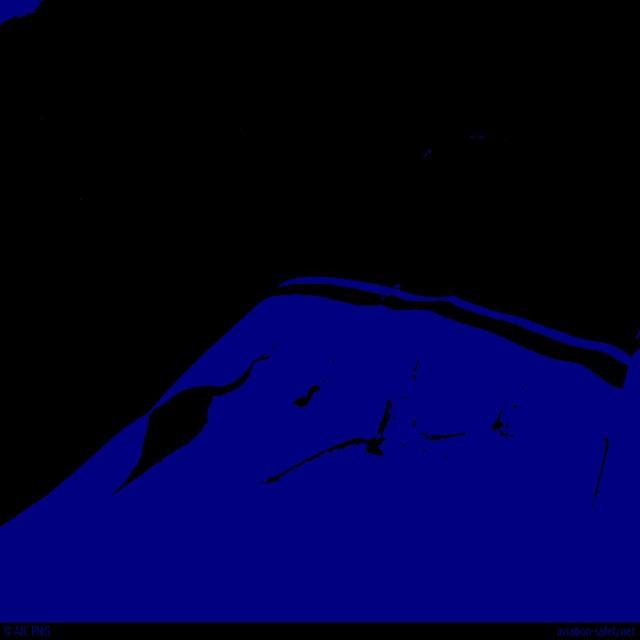crack: (279, 434, 351, 484), (412, 426, 466, 457), (377, 400, 401, 466), (411, 360, 434, 387)
